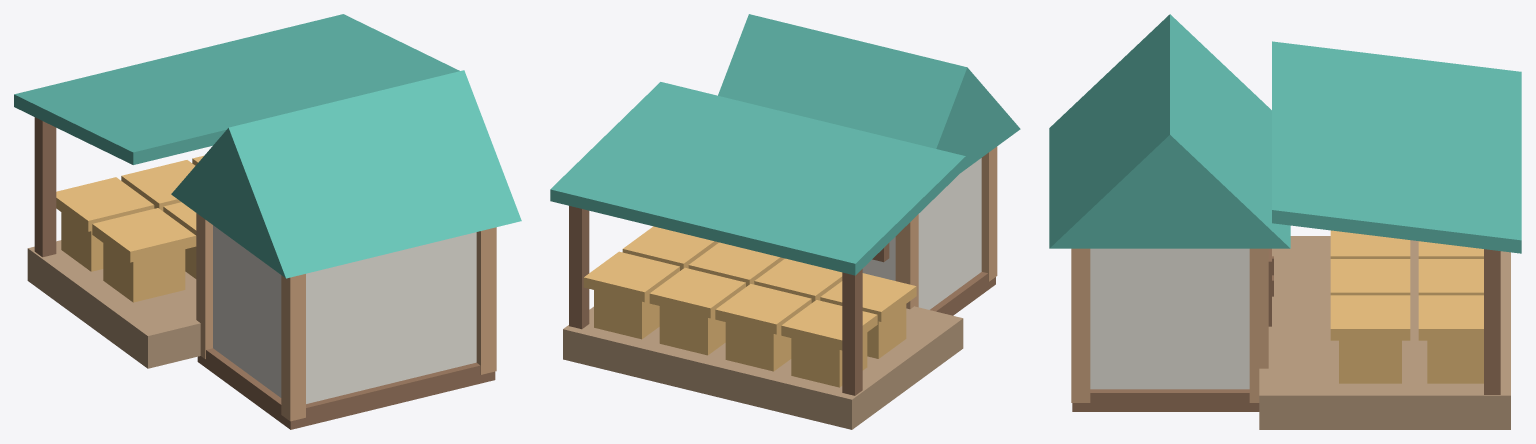
File: station.glb
3 views of the same model, side by side, from view 1: azimuth 30°, elevation 25°; view 2: azimuth 150°, elevation 25°; view 3: azimuth 270°, elevation 25° (orthographic). The views are drawn at different scales.
Visible parts, largest first — view 1: station_roof, station_canopy, station_body, station_platform, station_timber, station_crate_1, station_base, station_crate_5, station_canopy_posts, station_crate_6, station_crate_2; view 2: station_canopy, station_roof, station_platform, station_body, station_crate_7, station_crate_6, station_crate_8, station_canopy_posts, station_crate_5, station_timber, station_crate_1, station_crate_3 (+3 smaller); view 3: station_canopy, station_roof, station_platform, station_body, station_crate_4, station_timber, station_crate_8, station_base, station_crate_3, station_canopy_posts, station_crate_7, station_crate_2 (+1 smaller).
Part boxes in pixels (x1=…): station_roof: x1=171, y1=70, x2=521, y2=278; station_canopy: x1=14, y1=14, x2=459, y2=164; station_body: x1=213, y1=225, x2=476, y2=403; station_platform: x1=27, y1=240, x2=200, y2=368; station_timber: x1=196, y1=213, x2=496, y2=421; station_crate_1: x1=92, y1=208, x2=196, y2=302; station_base: x1=197, y1=348, x2=495, y2=429; station_crate_5: x1=56, y1=177, x2=154, y2=271; station_canopy_posts: x1=34, y1=117, x2=56, y2=257; station_crate_6: x1=121, y1=160, x2=195, y2=210; station_crate_2: x1=163, y1=202, x2=196, y2=278; station_canopy: x1=550, y1=82, x2=965, y2=275; station_roof: x1=718, y1=14, x2=1020, y2=172; station_platform: x1=563, y1=306, x2=963, y2=429; station_body: x1=862, y1=158, x2=981, y2=309; station_crate_7: x1=649, y1=267, x2=745, y2=355; station_crate_6: x1=715, y1=284, x2=811, y2=371; station_crate_8: x1=583, y1=251, x2=679, y2=339; station_canopy_posts: x1=569, y1=206, x2=862, y2=395; station_crate_5: x1=781, y1=300, x2=877, y2=387; station_timber: x1=895, y1=146, x2=997, y2=309; station_crate_1: x1=820, y1=273, x2=916, y2=358; station_crate_3: x1=688, y1=242, x2=784, y2=286; station_canopy: x1=1272, y1=41, x2=1521, y2=253; station_roof: x1=1049, y1=14, x2=1290, y2=248; station_platform: x1=1259, y1=236, x2=1510, y2=429; station_body: x1=1090, y1=248, x2=1249, y2=389; station_crate_4: x1=1330, y1=295, x2=1410, y2=383; station_timber: x1=1071, y1=248, x2=1268, y2=402; station_crate_8: x1=1418, y1=295, x2=1483, y2=383; station_base: x1=1072, y1=389, x2=1259, y2=411; station_crate_3: x1=1330, y1=259, x2=1410, y2=295; station_canopy_posts: x1=1484, y1=249, x2=1500, y2=394; station_crate_7: x1=1418, y1=259, x2=1483, y2=295; station_crate_2: x1=1330, y1=230, x2=1410, y2=258.
Size of the model in its own units: 1.9 by 1.5 by 2.25.
